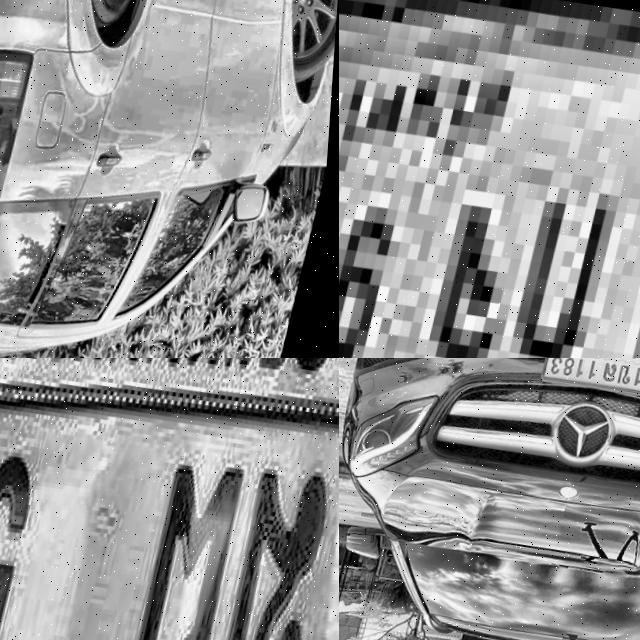license-plate: (339, 0, 640, 358), (0, 358, 339, 640), (536, 358, 640, 401)
